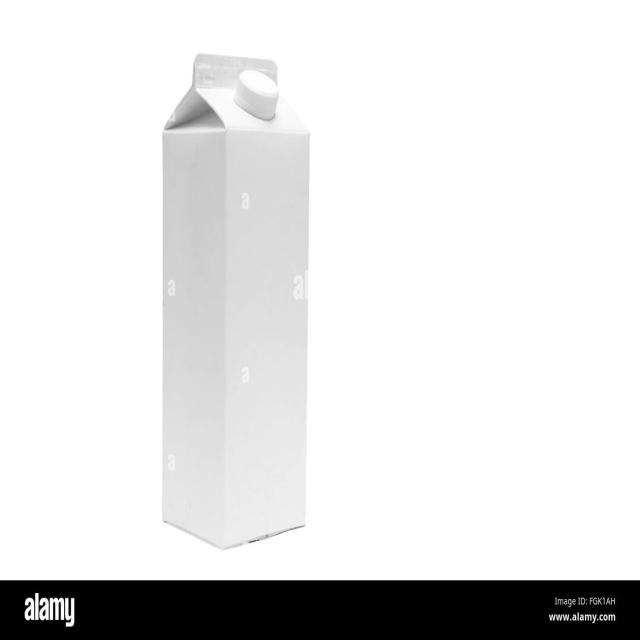Carton: (145, 49, 320, 566)
